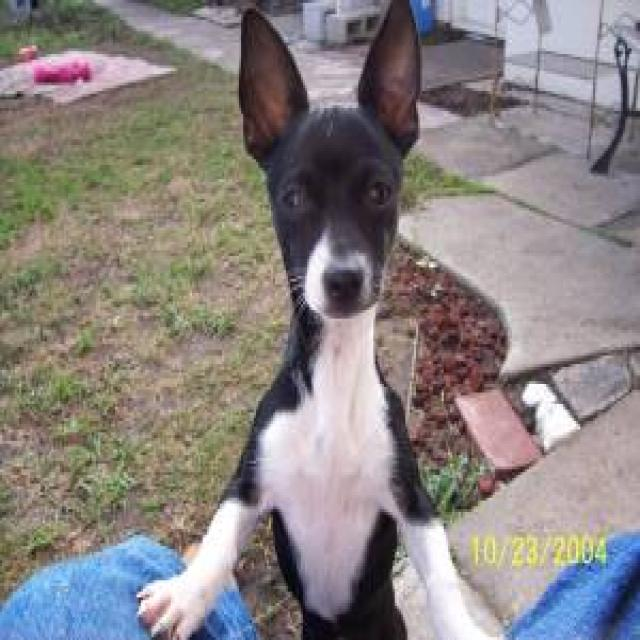dog-chihuahua: (128, 3, 491, 634)
